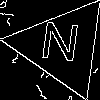N: (37, 21, 82, 71)
